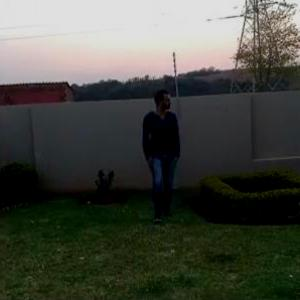follow: (141, 80, 188, 244)
